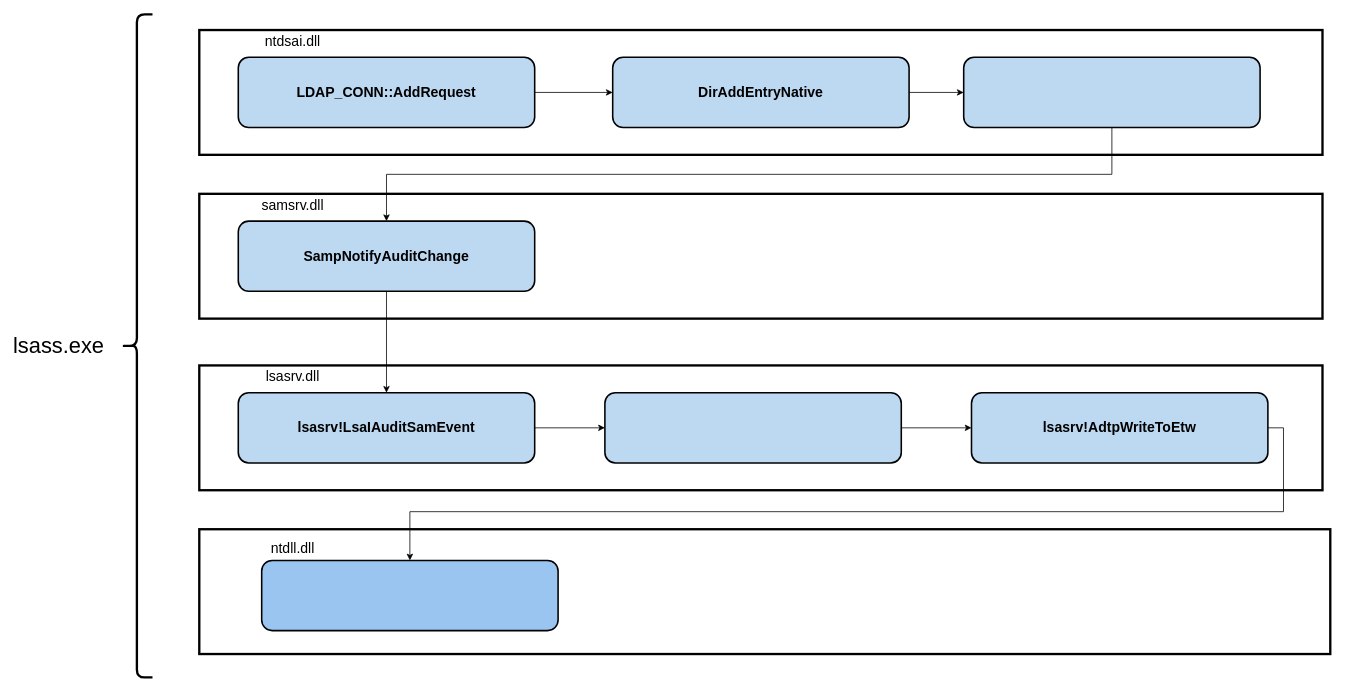
Some shapes in this 1345 by 692 pixel diagram are drawn without their labels. The shapes that lost their labels are listed below. From the top down, each one's centre as x and y in pixels, then its label:
At point (1111, 92): "SampProcessAuditNotifications".
At point (753, 427): "lsasrv!LsapAdtWriteLogEx".
At point (409, 595): "ntdll!EtwWriteUMSecurityEvent".
